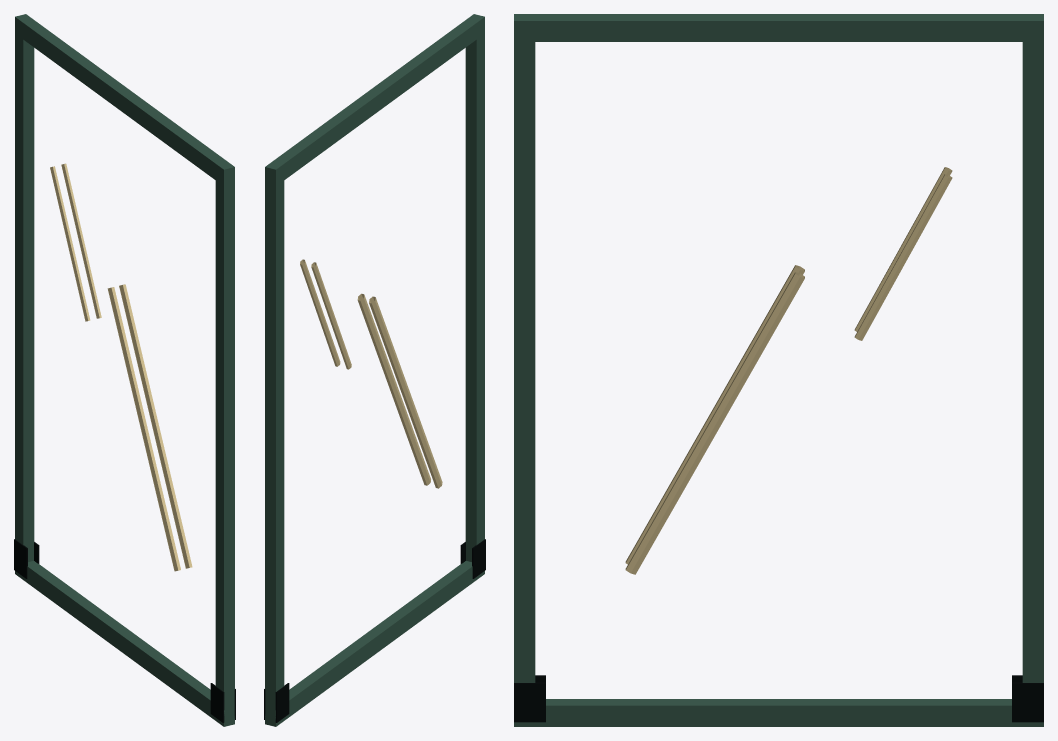
File: panel_core_office_glass.fbx
3 views of the same model, side by side, from view 1: azimuth 30°, elevation 25°; view 2: azimuth 150°, elevation 25°; view 3: azimuth 270°, elevation 25° (orthographic). The views are drawn at different scales.
Parts seen in each view (by area): view 1: Part_0; view 2: Part_0; view 3: Part_0.
Part boxes in pixels (box(x1,y1,x2,y2)): Part_0: box(14, 14, 235, 726); Part_0: box(264, 14, 485, 726); Part_0: box(514, 14, 1043, 726).
Bounding box in the file's own units: 0.16 × 5 × 3.4.
